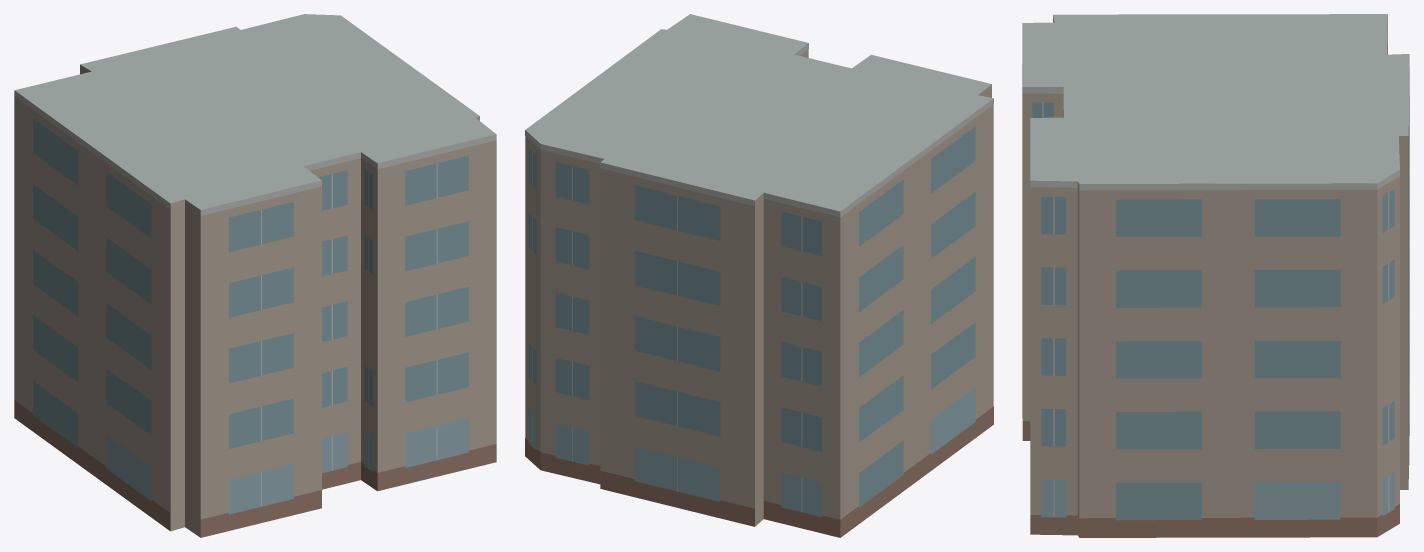
The model's file is survey-upis-32770289.glb.
3 views of the same model, side by side, from view 1: azimuth 30°, elevation 25°; view 2: azimuth 150°, elevation 25°; view 3: azimuth 270°, elevation 25° (orthographic). The views are drawn at different scales.
Parts seen in each view (by area): view 1: survey-upis-32770289.tmp; view 2: survey-upis-32770289.tmp; view 3: survey-upis-32770289.tmp.
Part boxes in pixels (x1=…): survey-upis-32770289.tmp: x1=14, y1=14, x2=496, y2=537; survey-upis-32770289.tmp: x1=525, y1=14, x2=993, y2=537; survey-upis-32770289.tmp: x1=1022, y1=14, x2=1409, y2=537.
Size of the model in its own units: 13.69 by 13.28 by 13.18.
